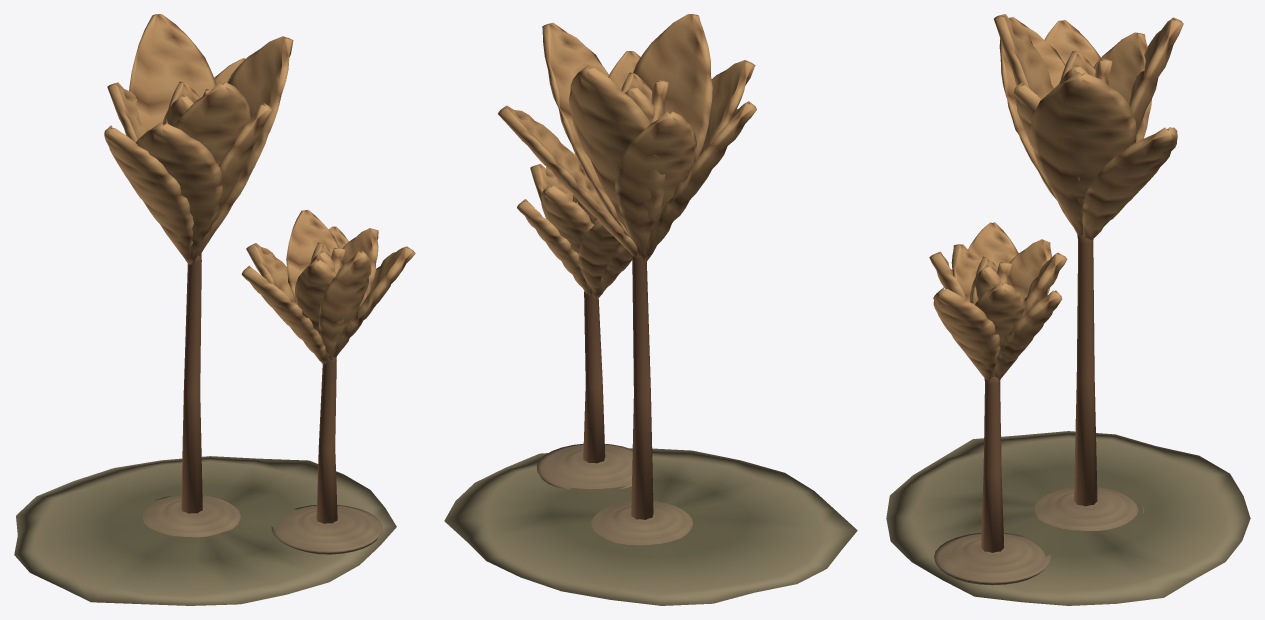
Rendered from Primocandelabrum.fbx.
3 views of the same model, side by side, from view 1: azimuth 30°, elevation 25°; view 2: azimuth 150°, elevation 25°; view 3: azimuth 270°, elevation 25° (orthographic). The views are drawn at different scales.
Visible parts, largest first — view 1: Primocandelabrum; view 2: Primocandelabrum; view 3: Primocandelabrum.
Part boxes in pixels (x1,y1,x2,y2): Primocandelabrum: (14,14,415,605); Primocandelabrum: (444,14,857,605); Primocandelabrum: (886,14,1250,605).
Size of the model in its own units: 1.2 by 1.61 by 1.06.
